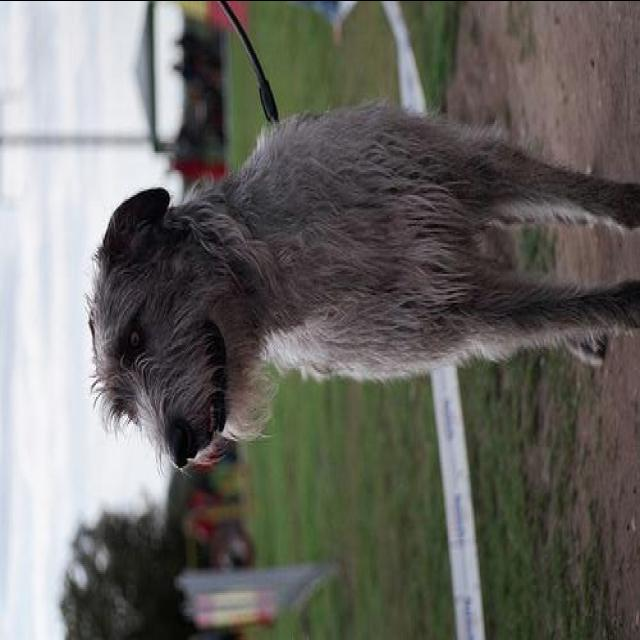irish_wolfhound: (85, 96, 638, 469)
